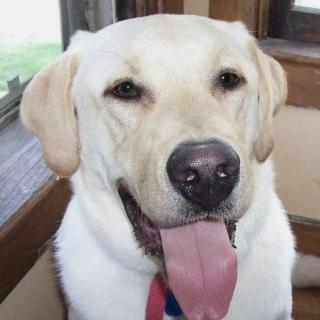dog: (19, 13, 304, 288)
nose: (170, 134, 242, 213)
